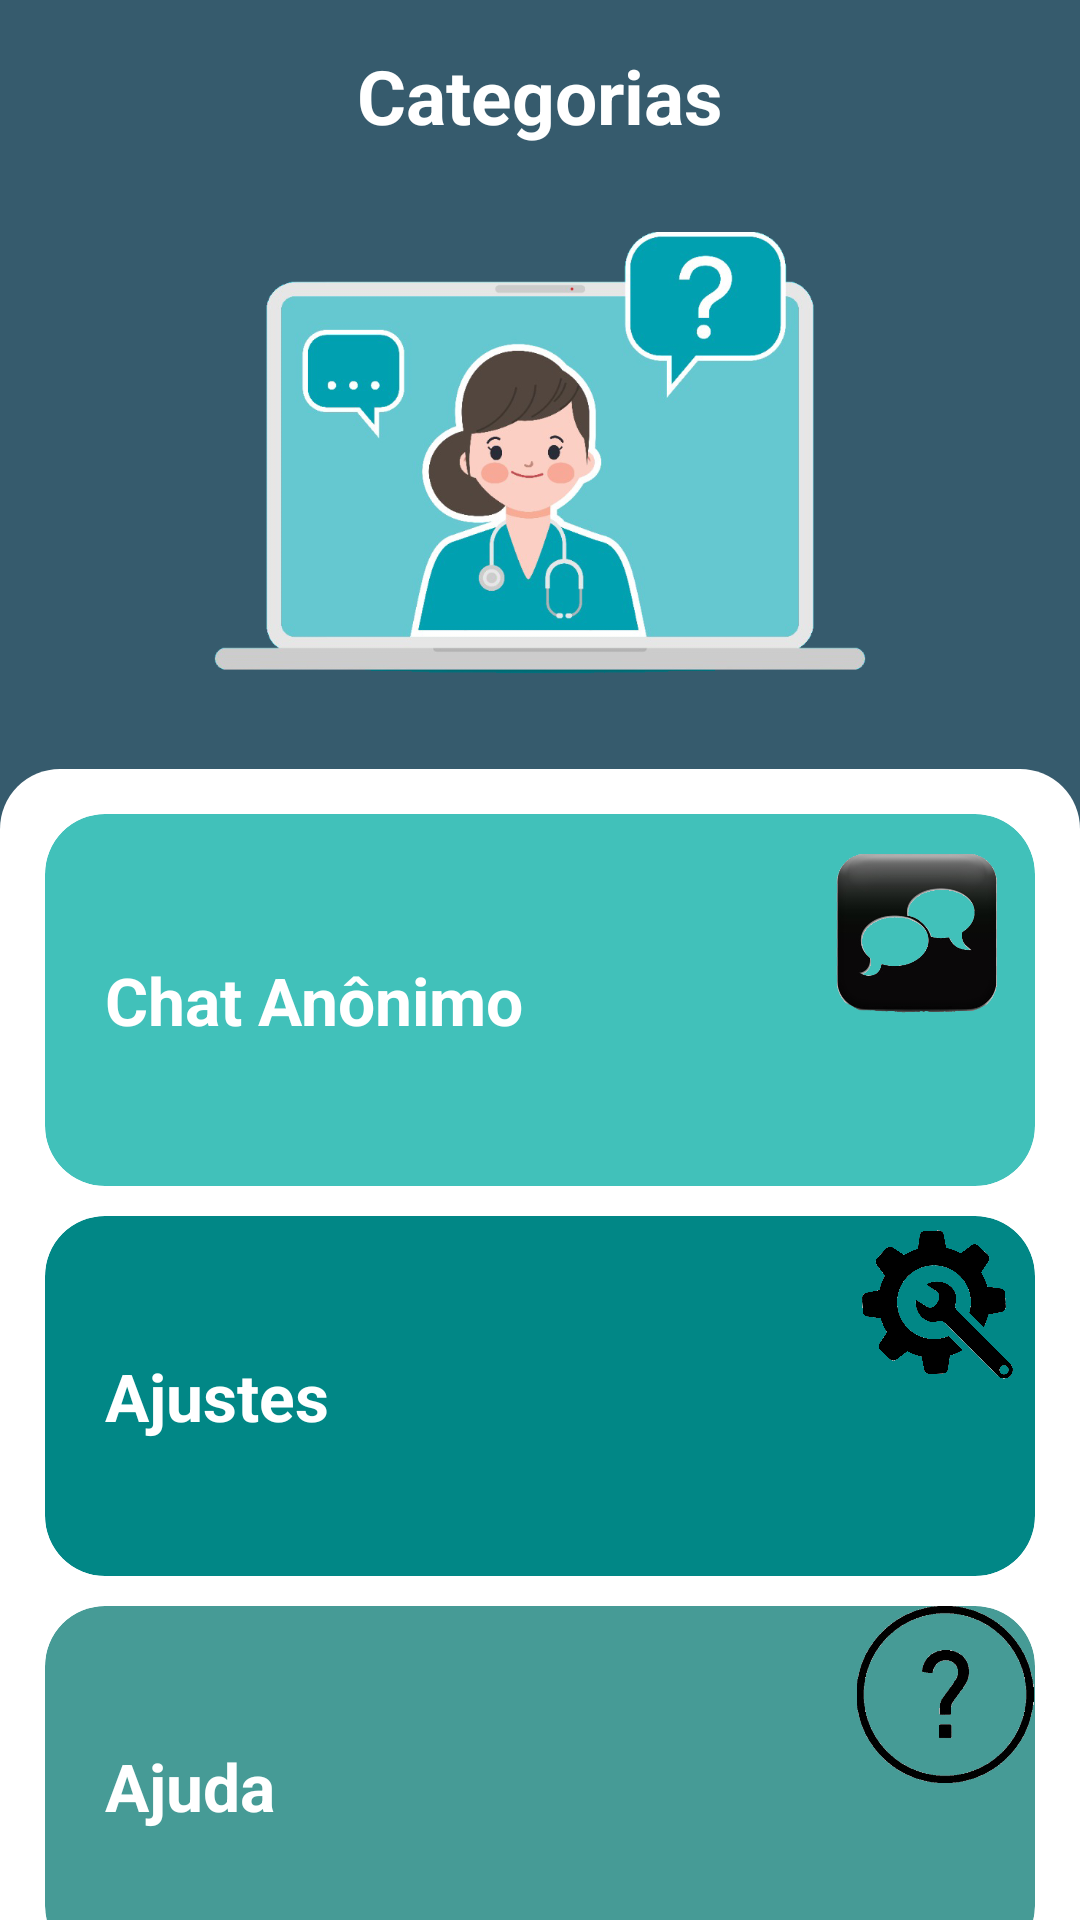

Icons on this 1080px×1920px Android screen, each with the point to tap as point (x, y):
botaochat: point (916, 938)
